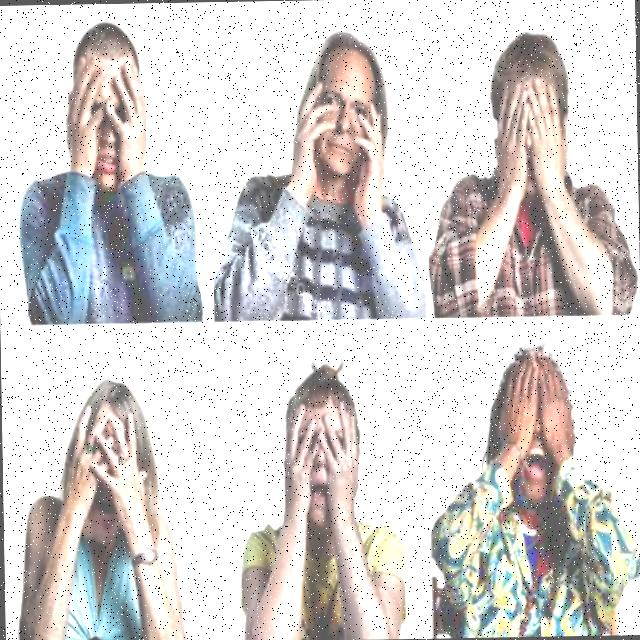fear: (21, 347, 180, 545), (251, 353, 384, 556), (451, 338, 604, 514), (290, 35, 419, 221), (57, 23, 166, 208), (480, 24, 587, 199)
